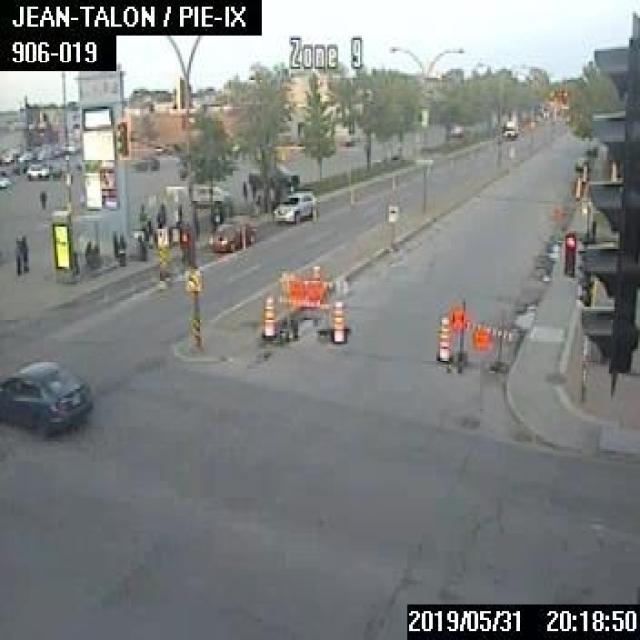construction: (272, 263, 336, 343), (444, 295, 511, 369), (435, 313, 452, 361), (328, 298, 346, 342), (261, 294, 274, 336)
pedestrian: (84, 240, 97, 265), (13, 234, 21, 274), (20, 234, 28, 272), (116, 232, 125, 262), (212, 196, 221, 224), (138, 202, 146, 228), (38, 187, 46, 213), (154, 202, 163, 224), (240, 177, 246, 199)
vehicle: (0, 356, 91, 436), (207, 212, 257, 250), (273, 186, 316, 222), (246, 162, 298, 185), (190, 184, 228, 206), (129, 154, 158, 168), (26, 162, 48, 176), (500, 118, 516, 136), (16, 151, 33, 161), (0, 173, 9, 184)
